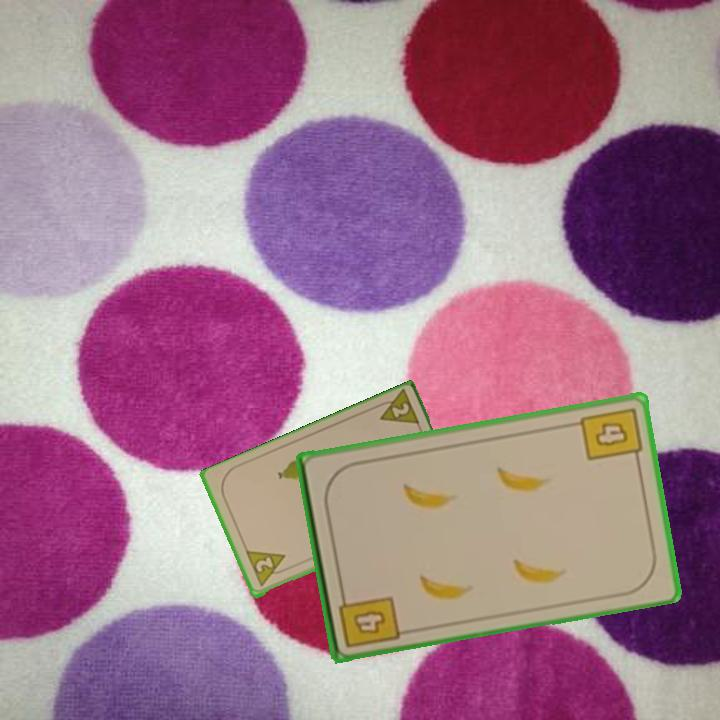2p: (370, 388, 423, 430), (242, 547, 292, 590)
4b: (334, 587, 402, 650), (577, 404, 645, 466)
